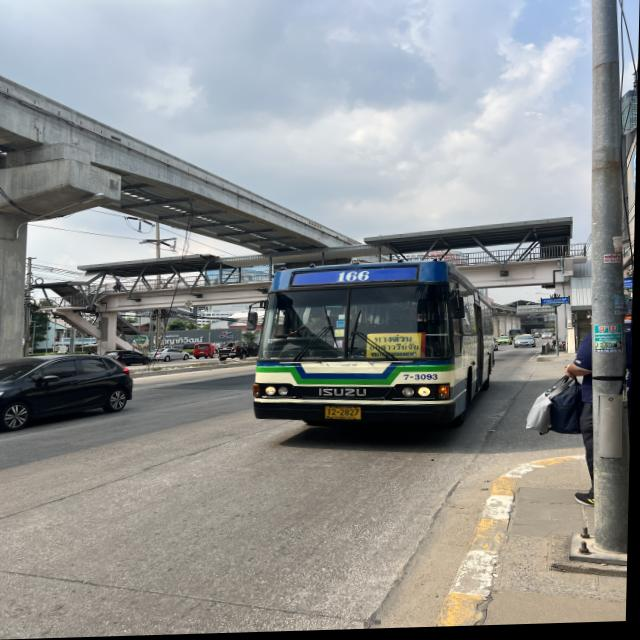BMTA-bus: (253, 263, 499, 430)
Bus Line Number: (335, 270, 375, 286)
Bus Side Number: (403, 375, 442, 385)
Destination Sign: (370, 335, 423, 362)
